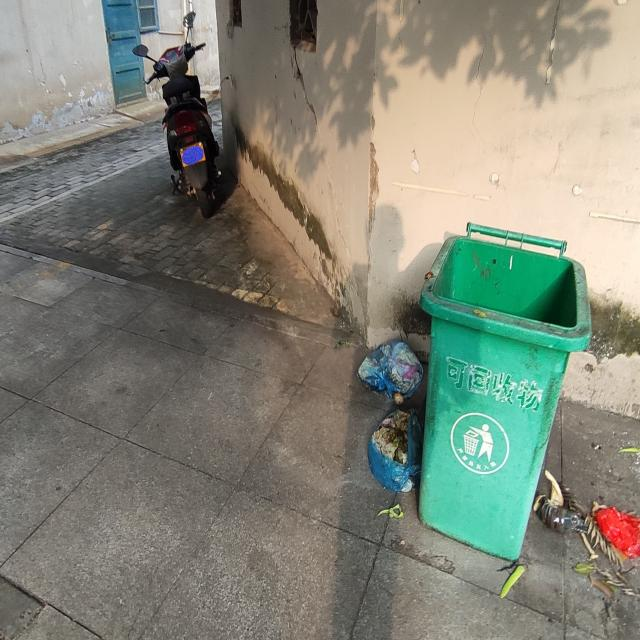ash bin: (416, 219, 596, 564)
motorbike: (131, 11, 220, 217)
